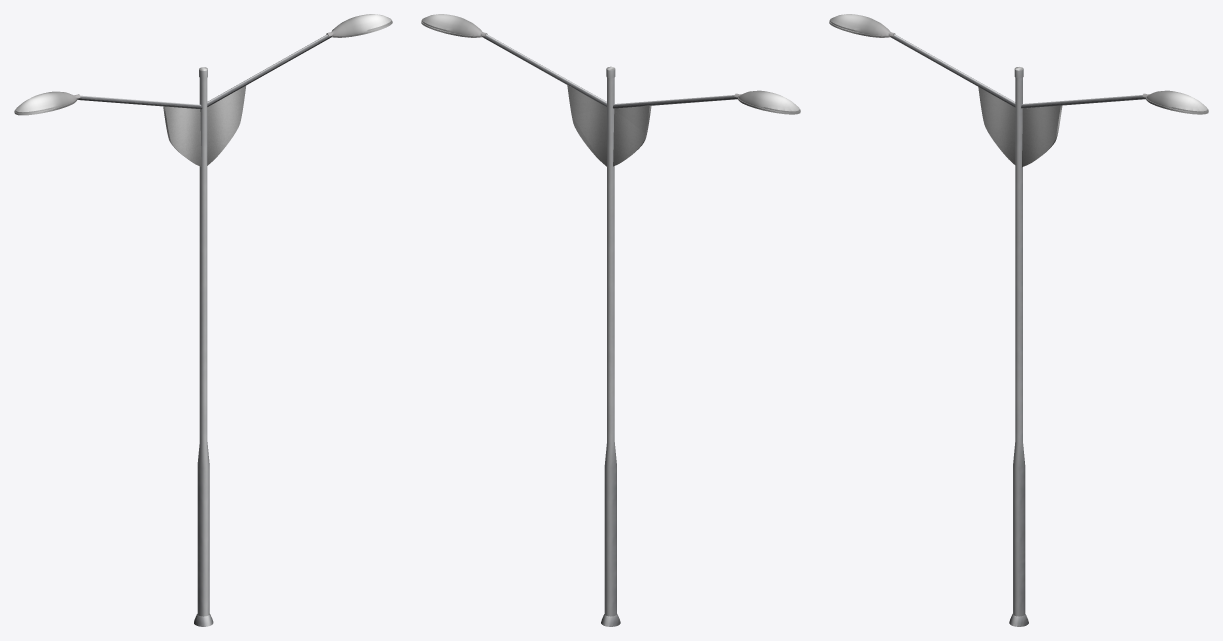
The picture shows the model from 3 angles, left to right: view 1: azimuth 30°, elevation 25°; view 2: azimuth 150°, elevation 25°; view 3: azimuth 330°, elevation 25°; orthographic projection.
Visible parts, largest first — view 1: MainBuilding; view 2: MainBuilding; view 3: MainBuilding.
Part boxes in pixels (x1=…): MainBuilding: x1=14, y1=14, x2=392, y2=626; MainBuilding: x1=421, y1=14, x2=800, y2=626; MainBuilding: x1=829, y1=14, x2=1208, y2=626.
Size of the model in its own units: 5.74 by 8.24 by 0.3519.
Materials: 1 (1 with a texture image).
